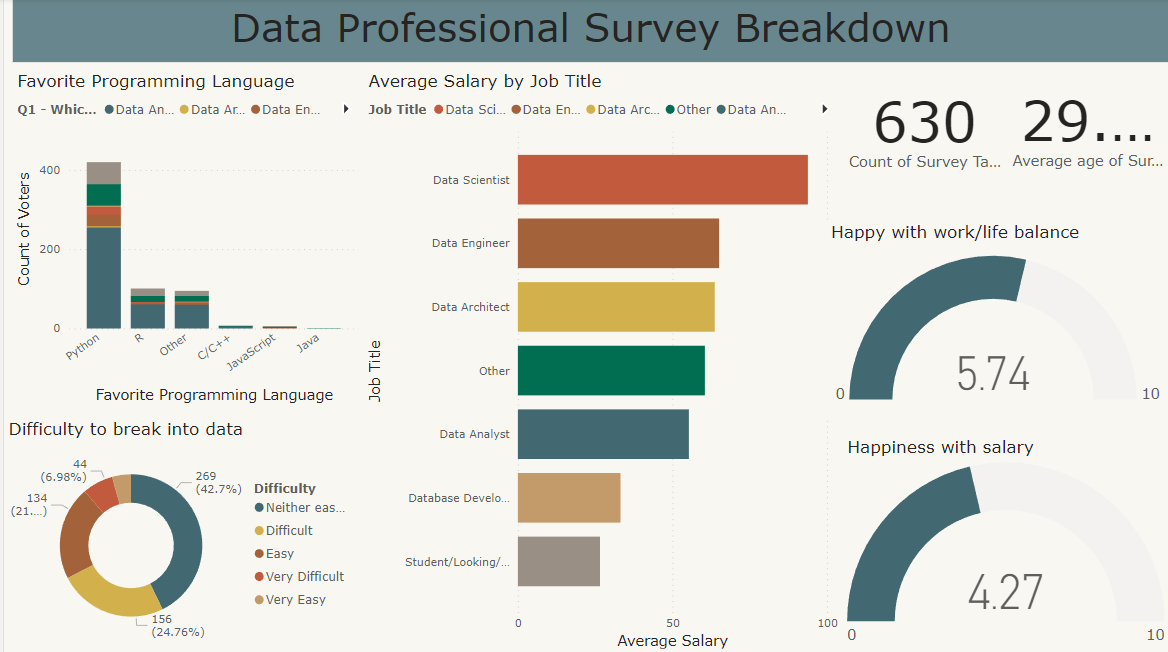

This screenshot's page, from the dashboard's own definition file:
{"tool":"powerbi","page":{"name":"Page 1","canvas":[1280,720],"ordinal":0},"visuals":[{"type":"textbox","box":[9.6,0,1270.4,70],"z":0},{"type":"card","fields":{"Values":["CountNonNull(Data Professional Survey.Unique ID)"]},"box":[921.5,81,179.9,120.9],"z":1000},{"type":"card","fields":{"Values":["Avg(Data Professional Survey.Q10 - Current Age)"]},"box":[1101.5,79.7,178.5,122.2],"z":2000},{"type":"barChart","title":"Average Salary by Job Title","fields":{"Category":["Data Professional Survey.Q1 - Which Title Best Fits your Current Role?.1"],"Y":["Avg(Data Professional Survey.Average Salary)"],"Series":["Data Professional Survey.Q1 - Which Title Best Fits your Current Role?.1"]},"box":[395.5,79.7,526,640],"z":3000},{"type":"columnChart","title":"Favorite Programming Language","fields":{"Category":["Data Professional Survey.Q5 - Favorite Programming Language.1"],"Y":["CountNonNull(Data Professional Survey.Unique ID)"],"Series":["Data Professional Survey.Q1 - Which Title Best Fits your Current Role?.1"]},"box":[9.6,79.7,385.9,370.8],"z":4000},{"type":"gauge","title":"Happy with work/life balance","fields":{"Y":["Avg(Data Professional Survey.Q6 - How Happy are you in your Current Position with the following? (Work/Life Balance))"],"MinValue":["Min(Data Professional Survey.Q6 - How Happy are you in your Current Position with the following? (Work/Life Balance))1"],"MaxValue":["Max(Data Professional Survey.Q6 - How Happy are you in your Current Position with the following? (Work/Life Balance))2"]},"box":[903.7,245.8,376.3,215.6],"z":5000},{"type":"gauge","title":"Happiness with salary","fields":{"Y":["Avg(Data Professional Survey.Q6 - How Happy are you in your Current Position with the following? (Salary))"],"MinValue":["Min(Data Professional Survey.Q6 - How Happy are you in your Current Position with the following? (Salary))"],"MaxValue":["Max(Data Professional Survey.Q6 - How Happy are you in your Current Position with the following? (Salary))"]},"box":[921.5,482.1,358.5,237.6],"z":6000},{"type":"donutChart","title":"Difficulty to break into data","fields":{"Category":["Data Professional Survey.Q7 - How difficult was it for you to break into Data?"],"Y":["CountNonNull(Data Professional Survey.Q7 - How difficult was it for you to break into Data?)"]},"box":[0,461.5,395.5,258.2],"z":7000}]}

Visuals, with their boxes in screenshot pixels (x1, y1, x2, y2), scaled from the page's 1280x720 canvas onto the 1168x652 screenshot:
textbox: (9,0,1167,63)
card - CountNonNull(Data Professional Survey.Unique ID): (841,73,1005,183)
card - Avg(Data Professional Survey.Q10 - Current Age): (1005,72,1167,183)
"Average Salary by Job Title" barChart: (361,72,841,651)
"Favorite Programming Language" columnChart: (9,72,361,408)
"Happy with work/life balance" gauge: (825,223,1167,418)
"Happiness with salary" gauge: (841,437,1167,651)
"Difficulty to break into data" donutChart: (0,418,361,651)
